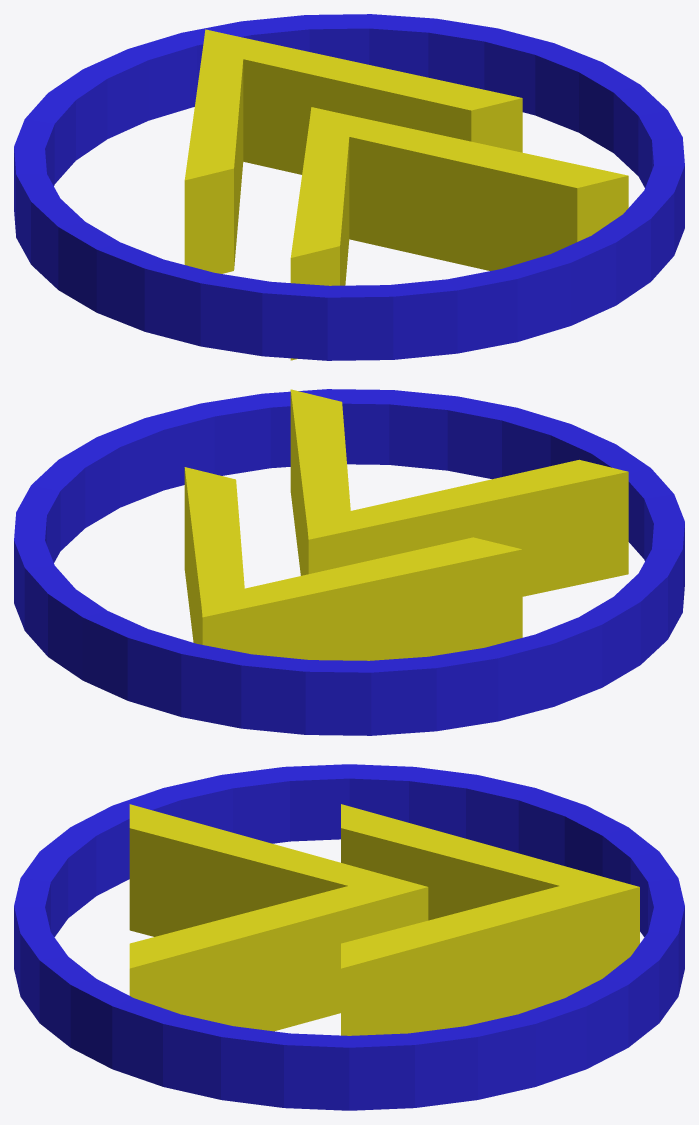
File: SpeedPowerUp.fbx
3 views of the same model, one above another, from view 1: azimuth 30°, elevation 25°; view 2: azimuth 150°, elevation 25°; view 3: azimuth 270°, elevation 25° (orthographic).
Parts seen in each view (by area): view 1: Cylinder; view 2: Cylinder; view 3: Cylinder.
Boxes of the visible parts, box(x1,y1,x2,y2) form: Cylinder: box(14, 14, 684, 360); Cylinder: box(14, 389, 684, 735); Cylinder: box(14, 764, 684, 1110).
Size of the model in its own units: 58.71 by 9.88 by 58.71.
